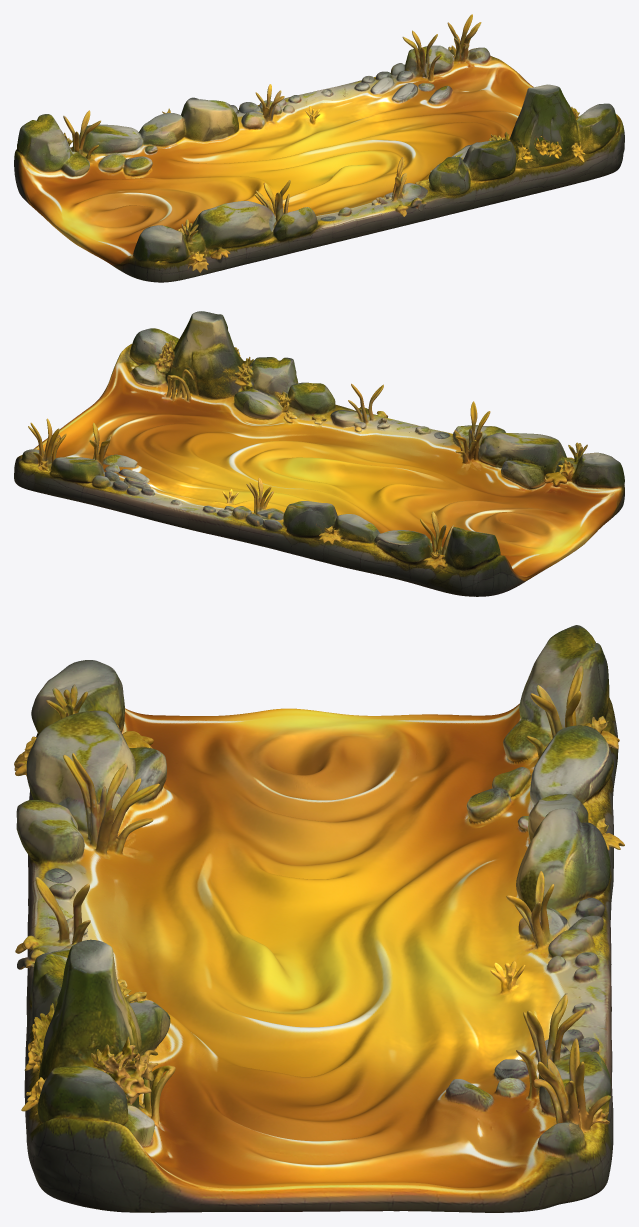
File: Meshy_AI_model.fbx
3 renders of one model, top to bottom at view 1: azimuth 30°, elevation 25°; view 2: azimuth 150°, elevation 25°; view 3: azimuth 270°, elevation 25°, orthographic. The views are drawn at different scales.
Parts seen in each view (by area): view 1: mesh_node; view 2: mesh_node; view 3: mesh_node.
Boxes of the visible parts, box(x1,y1,x2,y2) form: mesh_node: box(14, 14, 624, 282); mesh_node: box(14, 311, 624, 596); mesh_node: box(14, 625, 624, 1212).
Size of the model in its own units: 190 by 32.69 by 100.
1 material, 1 textured.
